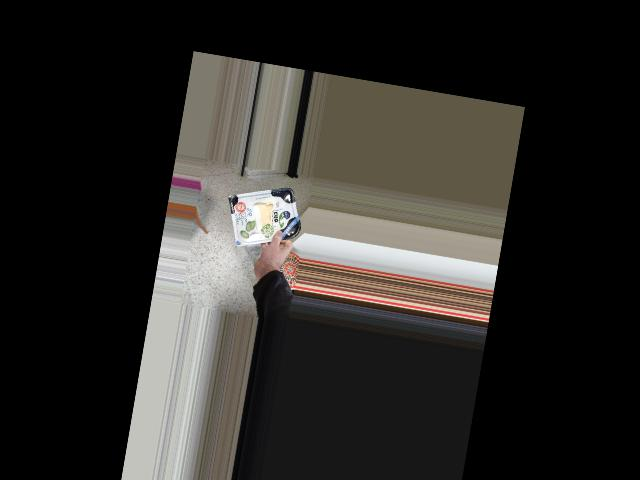cheese: (231, 188, 298, 245)
